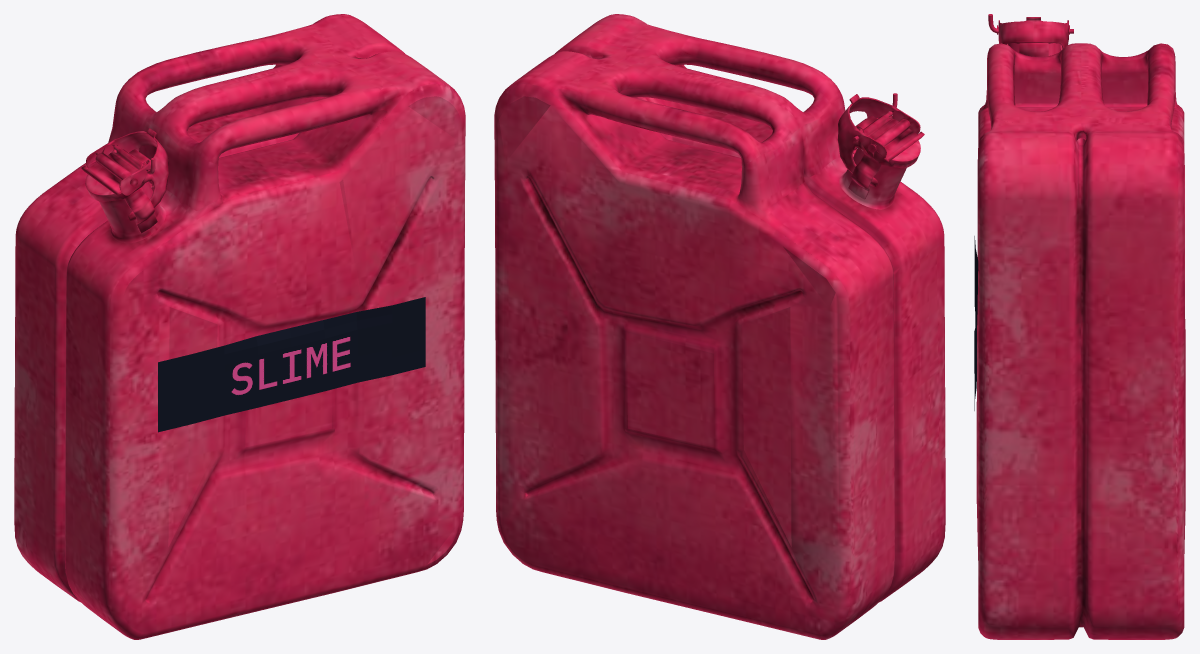
The model's file is nyb_sw_jerrycan.glb.
3 views of the same model, side by side, from view 1: azimuth 30°, elevation 25°; view 2: azimuth 150°, elevation 25°; view 3: azimuth 270°, elevation 25° (orthographic). The views are drawn at different scales.
Visible parts, largest first — view 1: metal_jerrycan, stk_lbl_b437984715.png; view 2: metal_jerrycan; view 3: metal_jerrycan, stk_lbl_b437984715.png.
Part boxes in pixels (bbox=[...]): metal_jerrycan: bbox=[14, 14, 465, 639]; stk_lbl_b437984715.png: bbox=[158, 297, 425, 432]; metal_jerrycan: bbox=[494, 14, 945, 639]; metal_jerrycan: bbox=[976, 14, 1185, 639]; stk_lbl_b437984715.png: bbox=[974, 236, 978, 410].
Size of the model in its own units: 0.3503 by 0.4552 by 0.1738.
2 materials, 2 textured.
